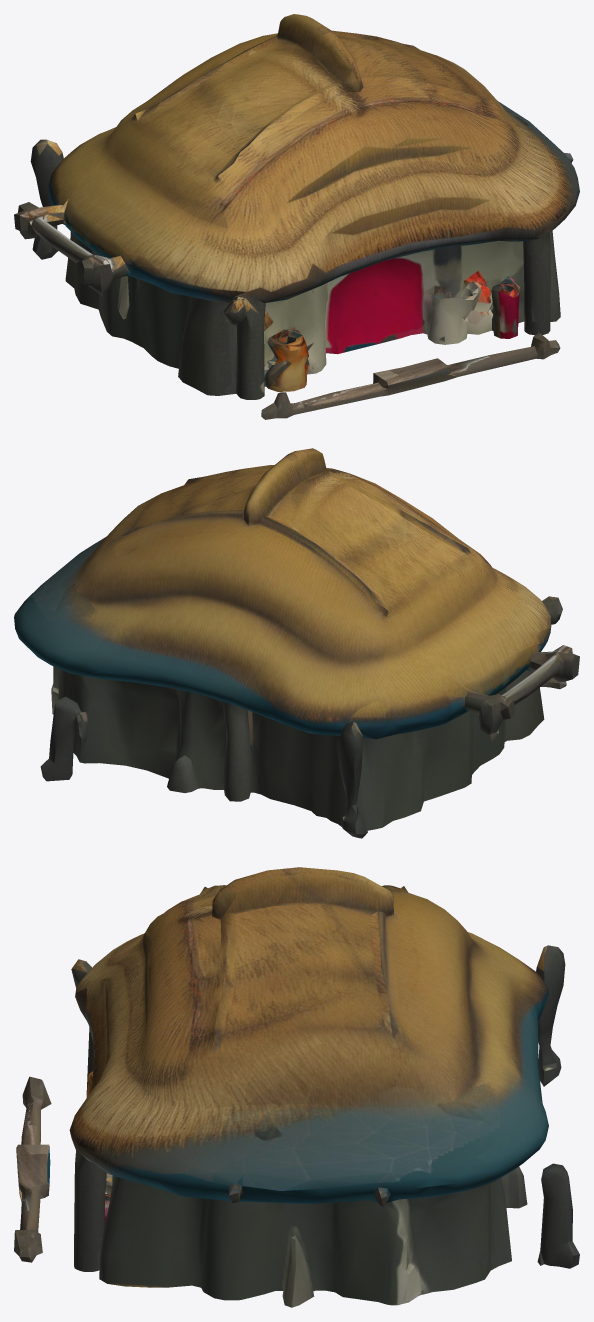
Rendered from mapuches_mercado.glb.
3 views of the same model, one above another, from view 1: azimuth 30°, elevation 25°; view 2: azimuth 150°, elevation 25°; view 3: azimuth 270°, elevation 25° (orthographic). The views are drawn at different scales.
Visible parts, largest first — view 1: geometry_0; view 2: geometry_0; view 3: geometry_0.
Part boxes in pixels (left/top/right/bottom): geometry_0: left=14, top=14, right=579, bottom=419; geometry_0: left=14, top=448, right=579, bottom=838; geometry_0: left=14, top=867, right=579, bottom=1307.
Size of the model in its own units: 3.4 by 1.8 by 2.85.
Materials: 1 (1 with a texture image).
